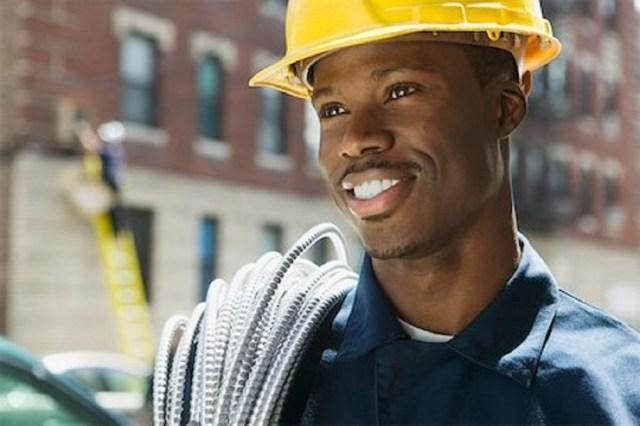helmet: (246, 1, 562, 98)
